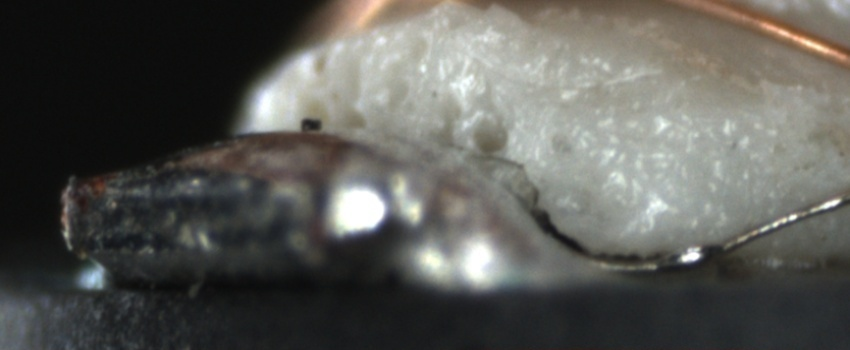TB: (663, 236, 718, 270)
TS: (651, 190, 849, 269)
TTCW: (592, 158, 849, 271)
